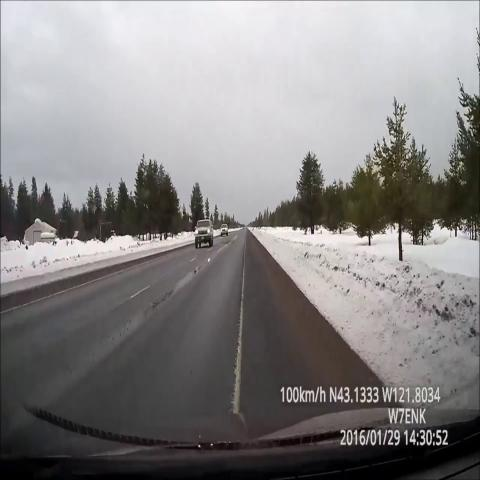pothole: (218, 238, 238, 253)
